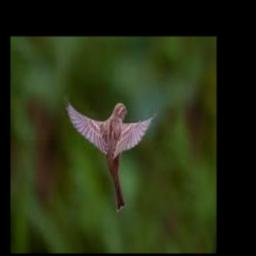Sparrow: (64, 95, 159, 212)
